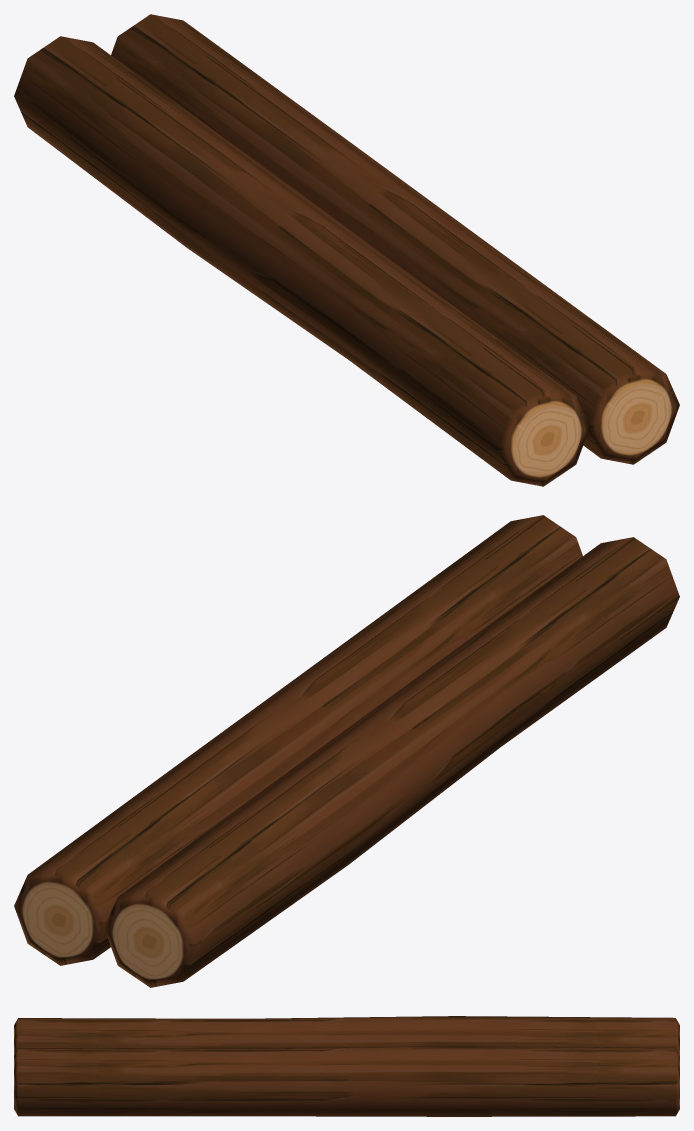
The model's file is PLF0110145.fbx.
3 views of the same model, one above another, from view 1: azimuth 30°, elevation 25°; view 2: azimuth 150°, elevation 25°; view 3: azimuth 270°, elevation 25° (orthographic). The views are drawn at different scales.
Parts seen in each view (by area): view 1: smPLF0110145; view 2: smPLF0110145; view 3: smPLF0110145.
Part boxes in pixels (box(x1,y1,x2,y2)): smPLF0110145: box(14, 14, 679, 486); smPLF0110145: box(14, 515, 679, 987); smPLF0110145: box(14, 1016, 679, 1116).
Size of the model in its own units: 271 by 139 by 1227.
1 material, 1 textured.
